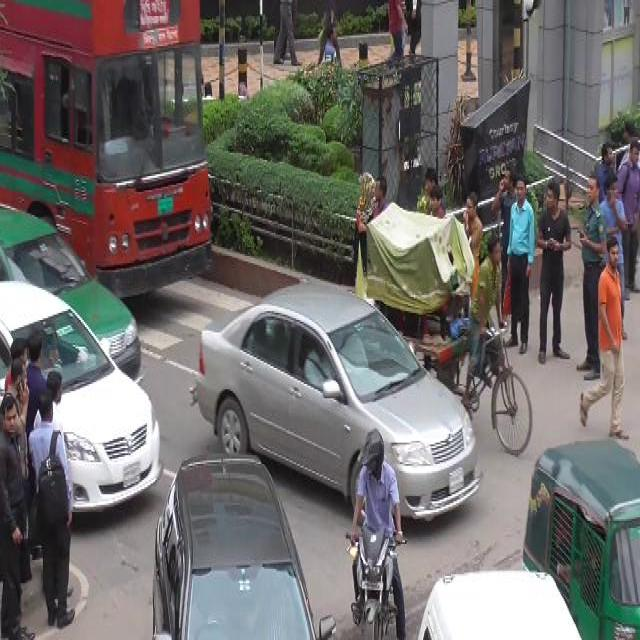bus: (1, 0, 221, 288)
car: (187, 280, 487, 531), (0, 273, 170, 516)
motorbike: (341, 520, 397, 639)
three wheelers -CNG-: (519, 436, 639, 638)
wheelbarrow: (358, 199, 538, 466)
